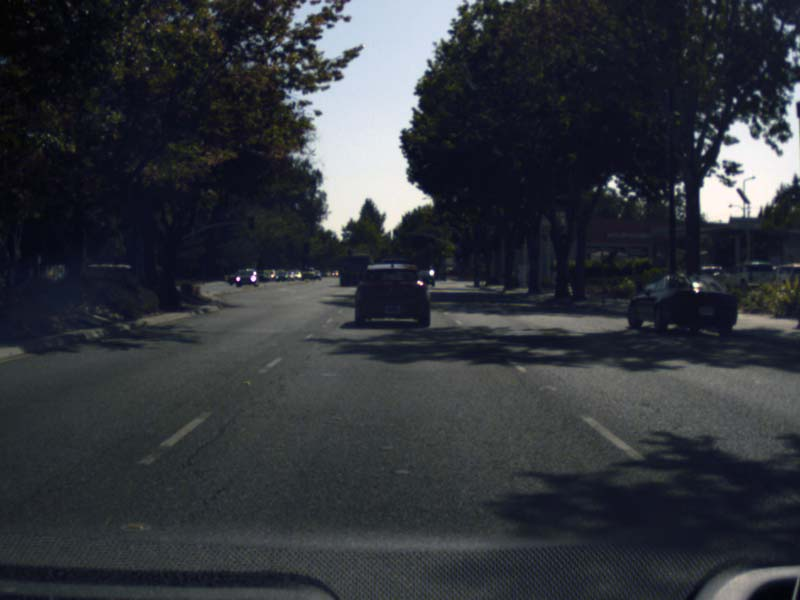Green: (393, 229, 397, 239)
